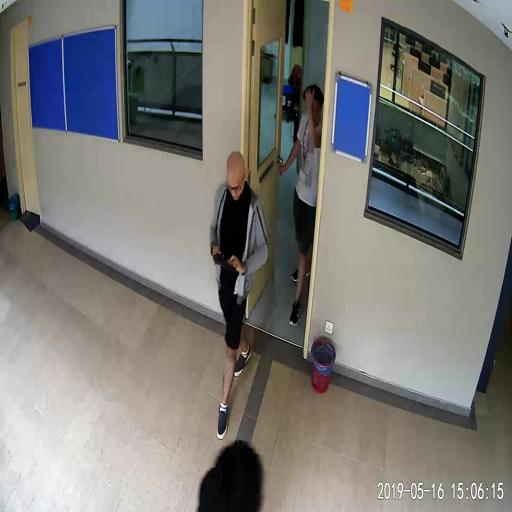pistol: (212, 245, 235, 270)
